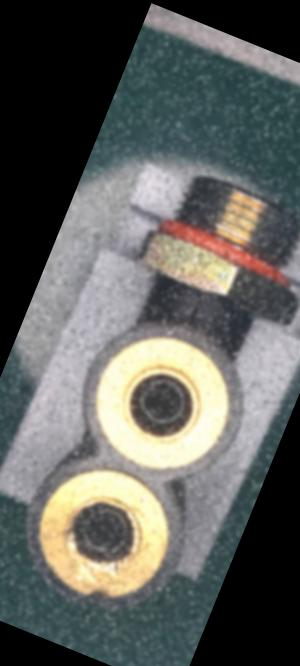bump: (65, 577, 124, 625)
craze: (179, 285, 212, 334)
